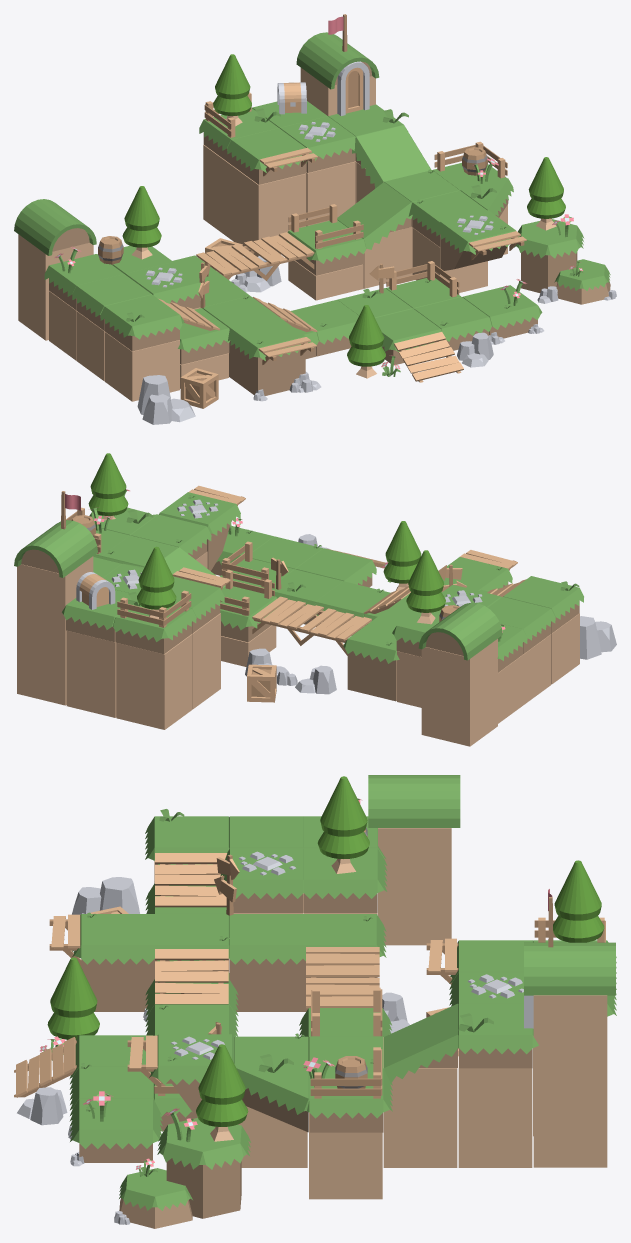
The model's file is environment-model.glb.
The picture shows the model from 3 angles, top to bottom: view 1: azimuth 30°, elevation 25°; view 2: azimuth 150°, elevation 25°; view 3: azimuth 270°, elevation 25°; orthographic projection. The views are drawn at different scales.
Parts seen in each view (by area): view 1: blockLong.001, blockDirt.021, blockHexagon, blockDirt.008, blockHalf.014, blockDirt.007, blockSlopeHalf.001, blockCurve.001, blockHalf.025, blockCliff.001, blockSlopeHalf.003, blockCurve.002 (+56 smaller); view 2: blockDirt.014, blockDirt.007, blockDirt.023, blockLong.002, blockDirt.017, blockCurve.001, blockCurve.002, blockHalf.026, blockCliff.001, blockDirt.021, blockHalf.014, blockHalf.017 (+44 smaller); view 3: blockDirt.014, blockLong.002, blockLong.001, blockDirt.007, blockDirt.012, blockDirt.010, blockHexagon, blockHalf.006, blockDirt.011, blockCurve.002, blockCurve.001, blockHalf.016 (+42 smaller).
Boxes of the visible parts, <box> form: blockLong.001: <box>202,296,309,395</box>; blockDirt.021: <box>231,165,306,256</box>; blockHexagon: <box>514,219,584,292</box>; blockDirt.008: <box>104,332,179,401</box>; blockHalf.014: <box>100,294,184,351</box>; blockDirt.007: <box>18,234,93,340</box>; blockSlopeHalf.001: <box>352,125,431,188</box>; blockCurve.001: <box>14,199,96,255</box>; blockHalf.025: <box>227,128,307,184</box>; blockCliff.001: <box>436,210,519,270</box>; blockSlopeHalf.003: <box>337,182,412,249</box>; blockCurve.002: <box>296,32,379,89</box>; blockDirt.014: <box>17,556,93,705</box>; blockDirt.007: <box>421,639,497,746</box>; blockDirt.023: <box>116,634,192,729</box>; blockLong.002: <box>343,598,415,701</box>; blockDirt.017: <box>66,630,116,717</box>; blockCurve.001: <box>418,602,502,660</box>; blockCurve.002: <box>14,520,97,577</box>; blockHalf.026: <box>113,604,196,654</box>; blockCliff.001: <box>159,492,240,570</box>; blockDirt.021: <box>192,613,220,708</box>; blockHalf.014: <box>503,576,583,633</box>; blockHalf.017: <box>130,514,211,559</box>; blockDirt.014: <box>533,995,607,1167</box>; blockLong.002: <box>229,914,386,1011</box>; blockLong.001: <box>72,914,228,1011</box>; blockDirt.007: <box>378,828,451,945</box>; blockDirt.012: <box>458,1048,532,1167</box>; blockDirt.010: <box>383,1037,457,1167</box>; blockHexagon: <box>157,1118,250,1218</box>; blockHalf.006: <box>69,1098,162,1162</box>; blockDirt.011: <box>309,1112,382,1199</box>; blockCurve.002: <box>524,942,615,995</box>; blockCurve.001: <box>368,775,460,827</box>; blockHalf.016: <box>458,1003,538,1068</box>.
Bounding box in the file's own units: 17.19 × 6.41 × 13.73.
